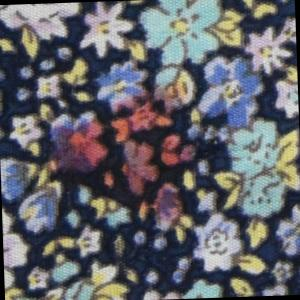Stain: (38, 92, 208, 238)
